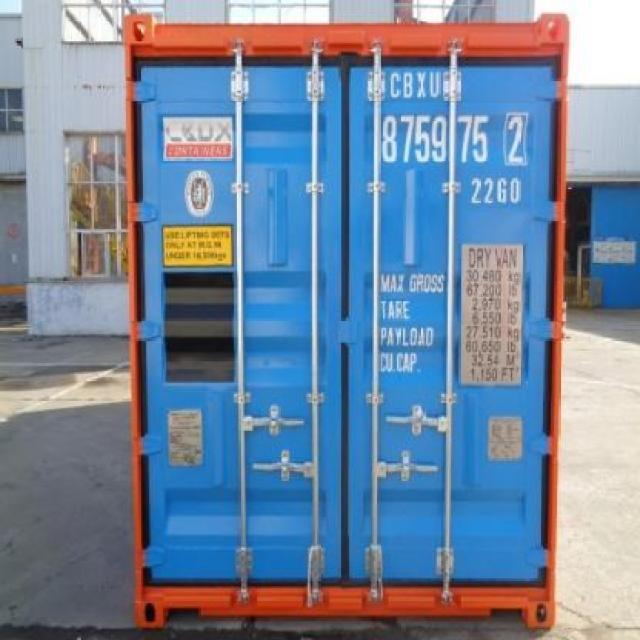ISO: (470, 177, 522, 204)
container_number: (386, 74, 534, 164)
